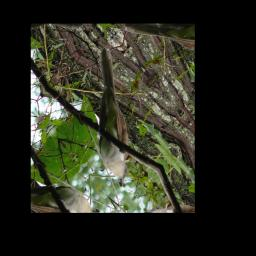Cuckoo: (51, 44, 175, 188)
